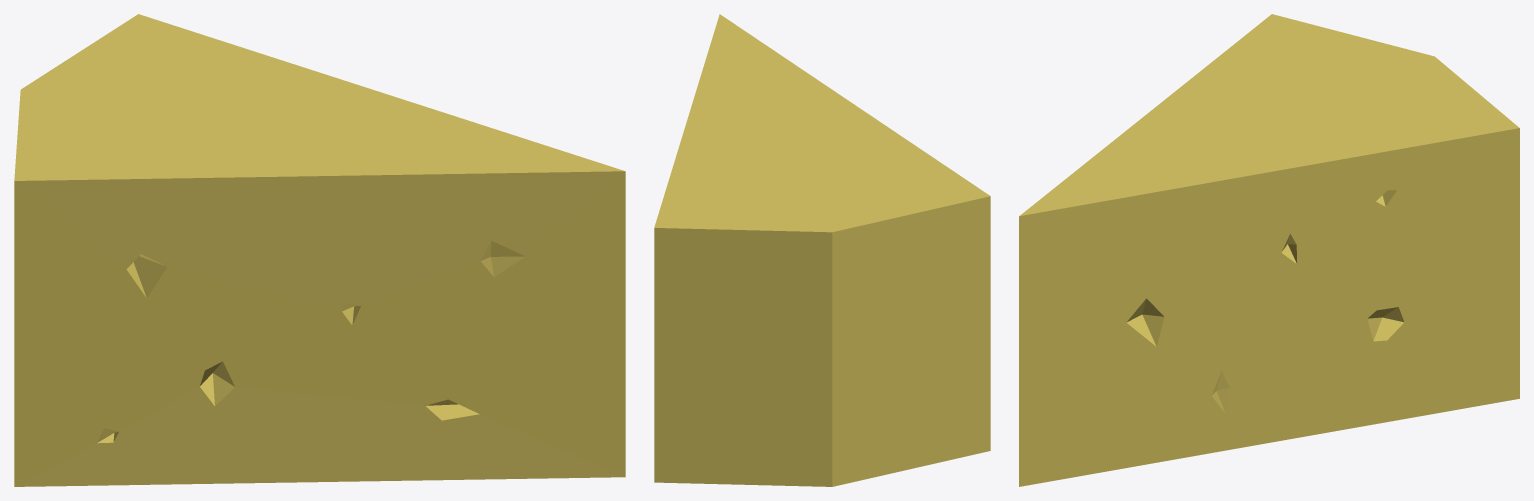
Rendered from SM_Cheese.fbx.
3 views of the same model, side by side, from view 1: azimuth 30°, elevation 25°; view 2: azimuth 150°, elevation 25°; view 3: azimuth 270°, elevation 25° (orthographic). The views are drawn at different scales.
Visible parts, largest first — view 1: cheese; view 2: cheese; view 3: cheese.
Boxes of the visible parts, box(x1,y1,x2,y2) form: cheese: box(14, 14, 625, 486); cheese: box(654, 14, 990, 486); cheese: box(1019, 14, 1519, 486).
Size of the model in its own units: 41.71 by 26.03 by 43.63.
